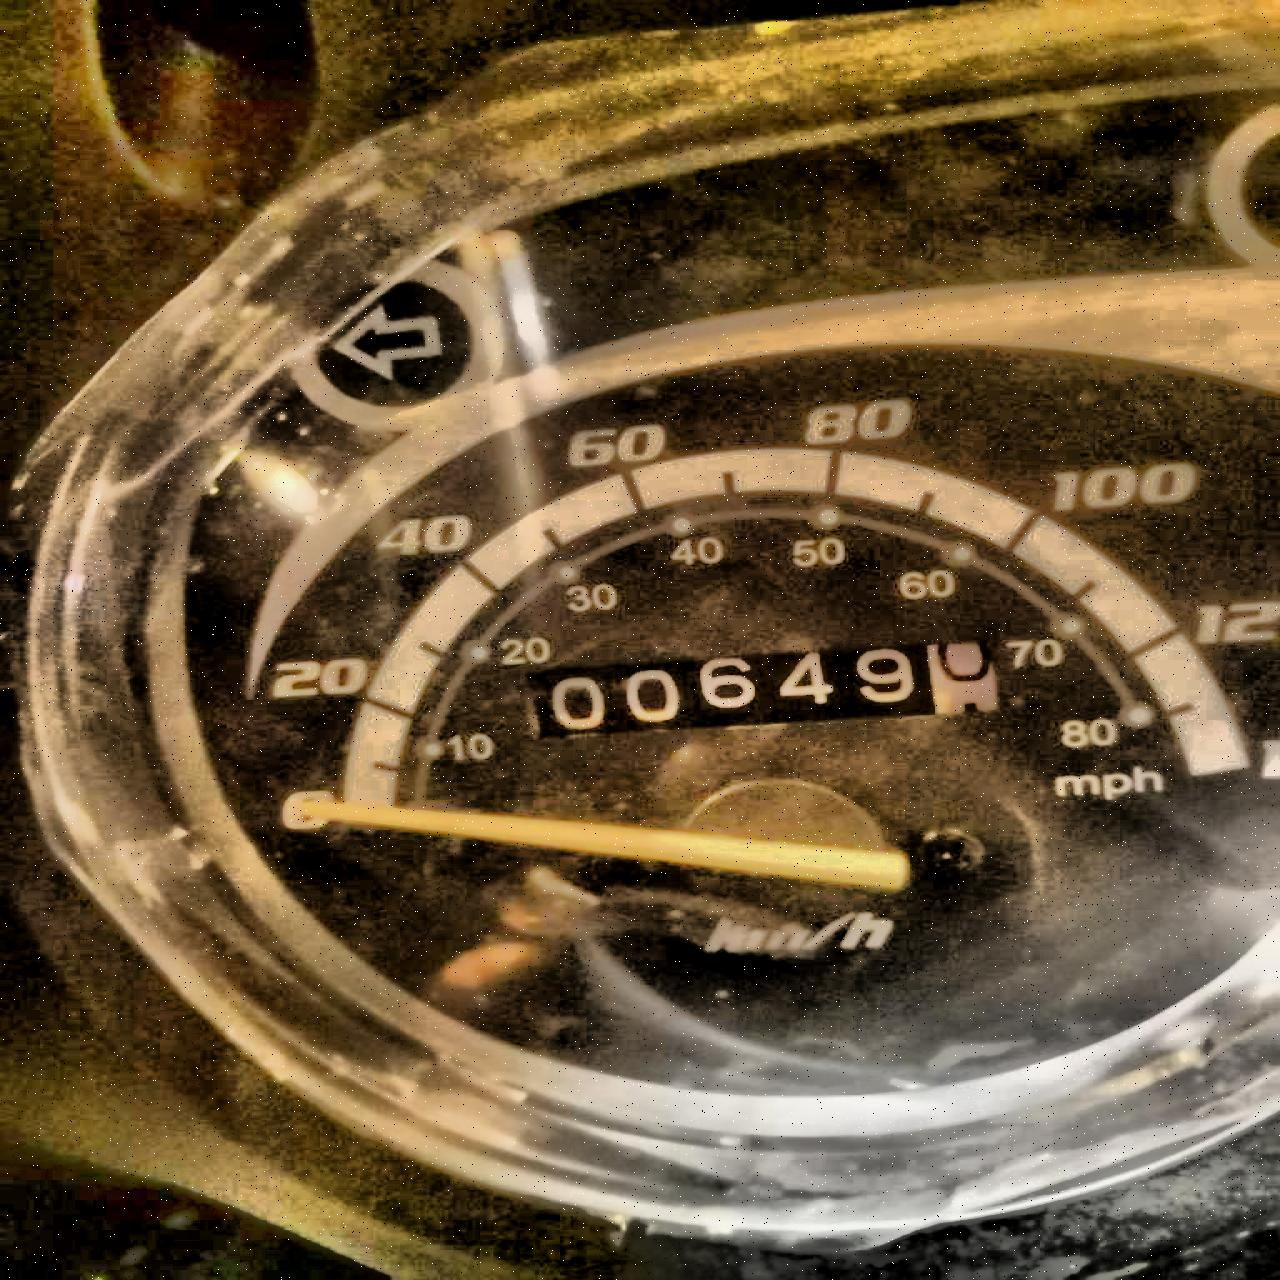0: (933, 629, 994, 682), (624, 667, 680, 722), (549, 674, 604, 728), (523, 635, 552, 660)
4: (777, 648, 833, 703)
6: (696, 655, 755, 707)
9: (856, 647, 912, 701)
odometer: (519, 633, 1008, 745)
